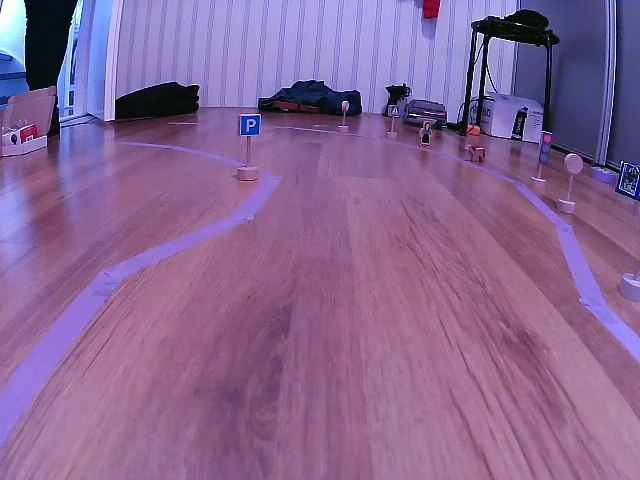parkeerbord: (239, 113, 262, 138)
roodlicht: (538, 129, 552, 165)
